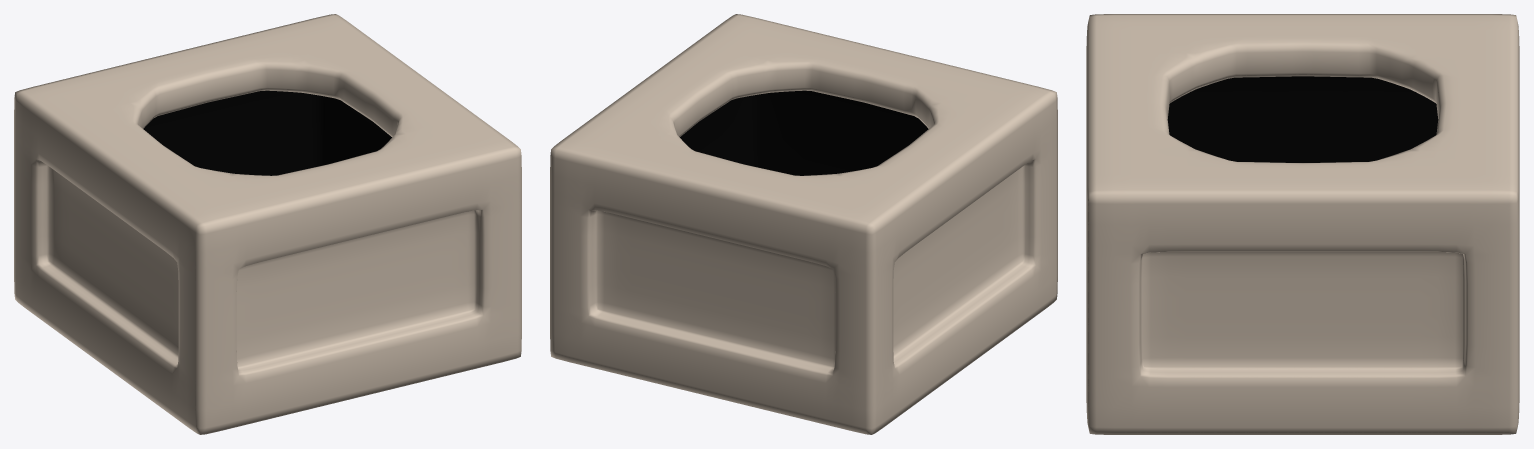
Rendered from trash_bin.fbx.
3 renders of one model, left to right at view 1: azimuth 30°, elevation 25°; view 2: azimuth 150°, elevation 25°; view 3: azimuth 270°, elevation 25°, orthographic. The views are drawn at different scales.
Parts seen in each view (by area): view 1: pCube1; view 2: pCube1; view 3: pCube1.
Part boxes in pixels (<box>): pCube1: <box>14,14,521,434</box>; pCube1: <box>550,14,1057,434</box>; pCube1: <box>1086,14,1519,434</box>.
Size of the model in its own units: 1.12 by 0.7 by 1.12.
